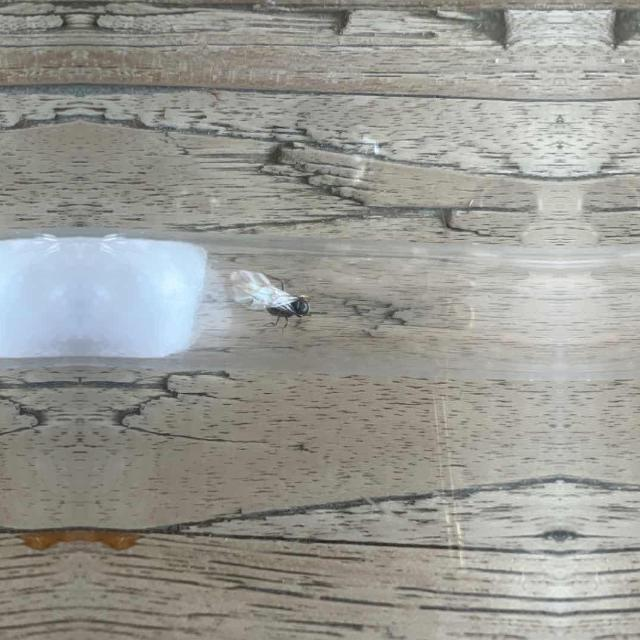Lasius: (224, 264, 320, 330)
